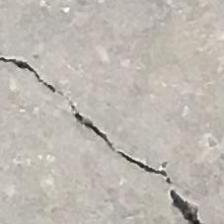Crack: (7, 57, 198, 224)
